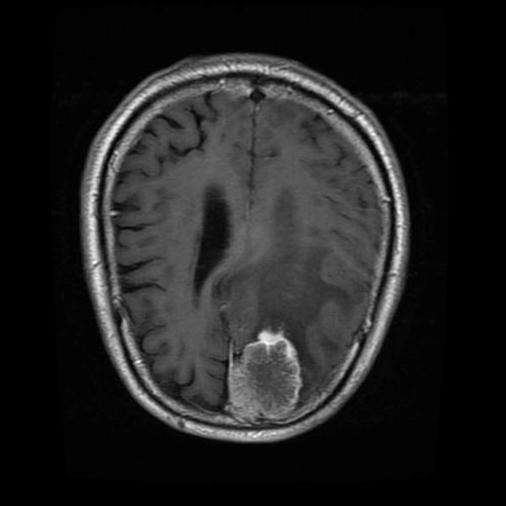Tumour-Meningioma: (186, 309, 309, 424)
